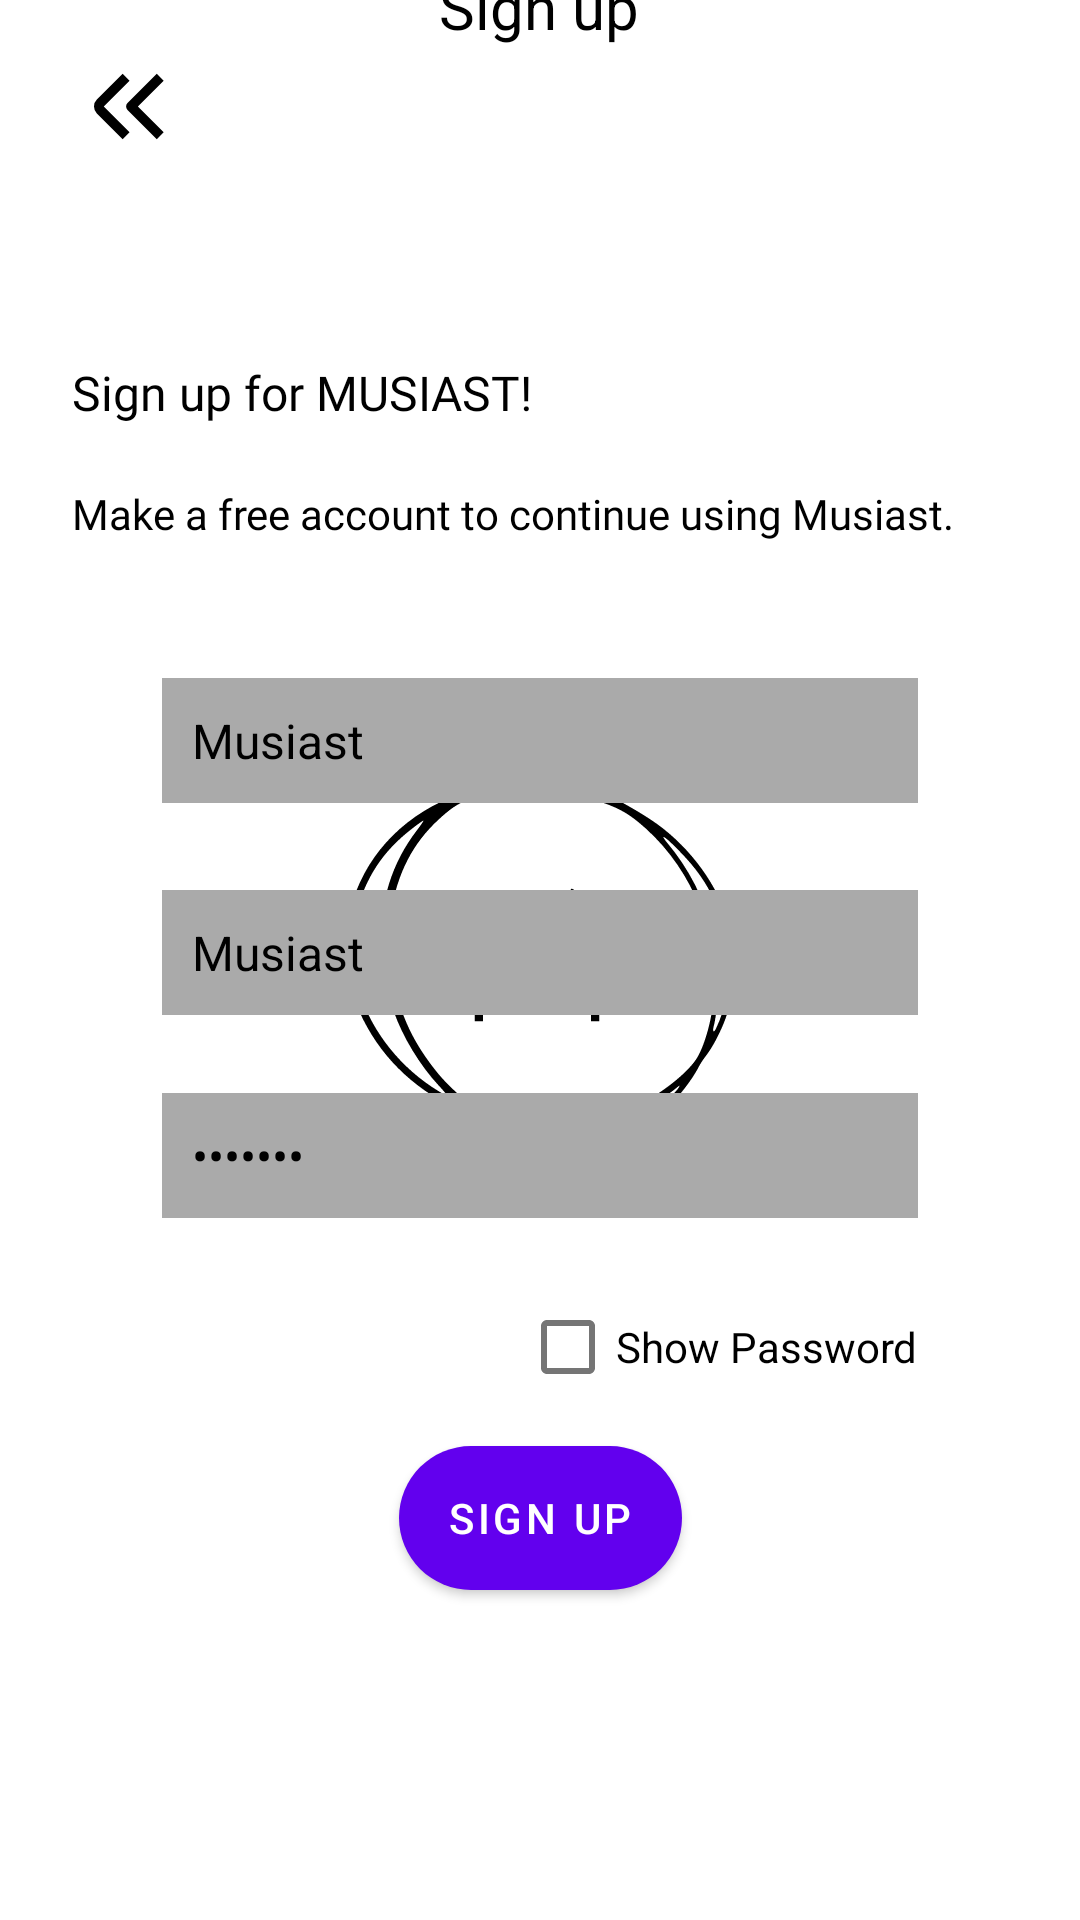

Locate icon controls on the screen. Image size 1080w x 1920h, boxes as (x1, y1, x2, y2).
arrow left: (94, 74, 164, 139)
